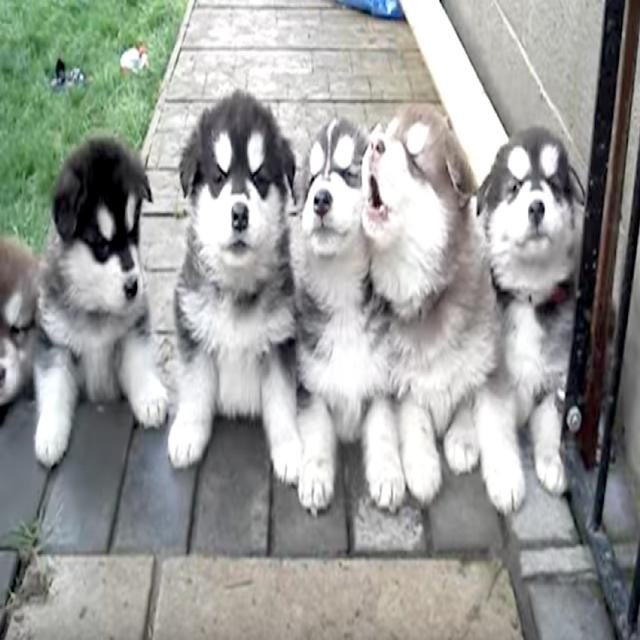dog: (308, 101, 477, 352), (27, 106, 175, 360), (474, 80, 611, 334), (170, 78, 292, 308)
